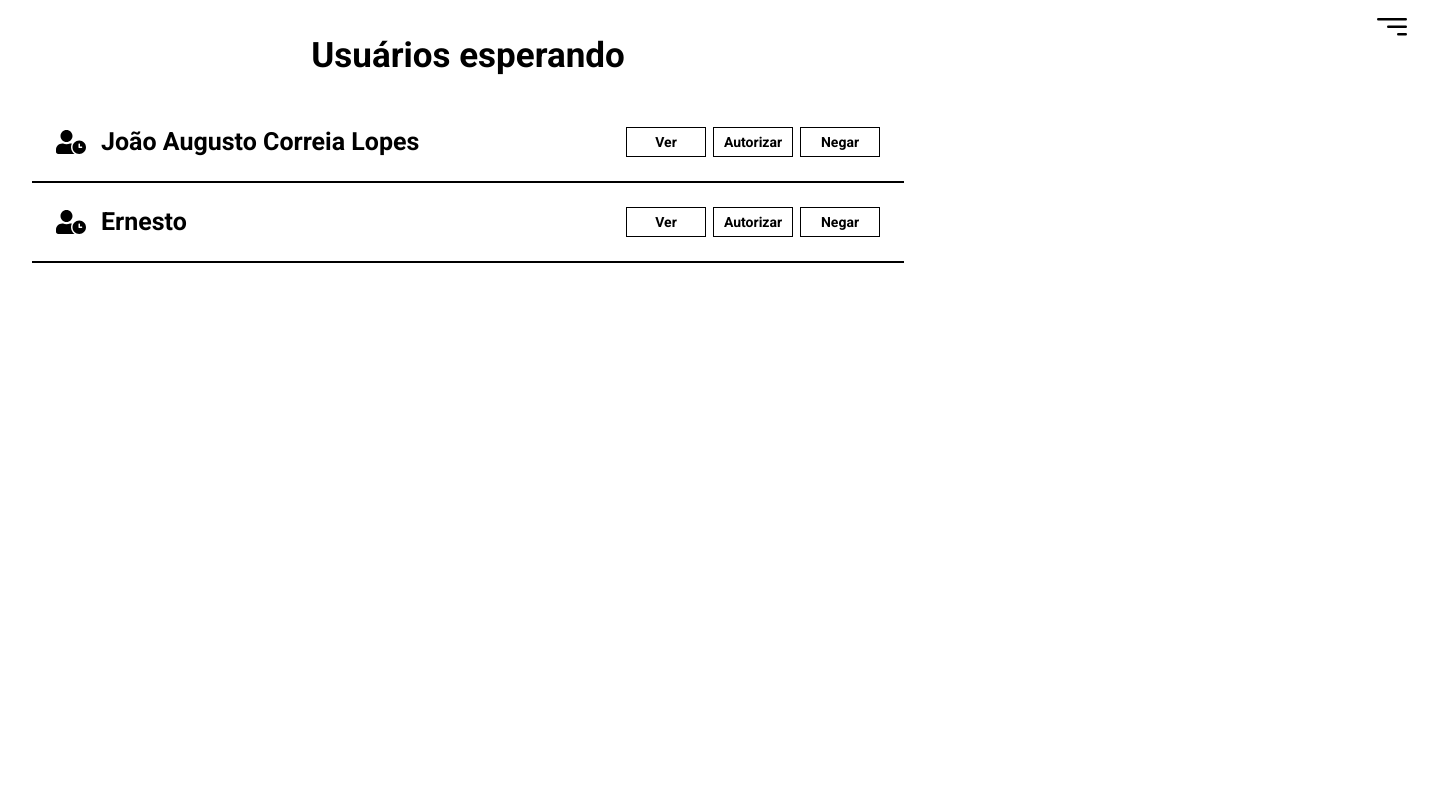
UsersWaiting › Render warning authorization
This screenshot has width=1440, height=810.
Click the button "Autorizar" in the row of "João Augusto Correia Lopes" at (753, 142), box [713,126,793,156]
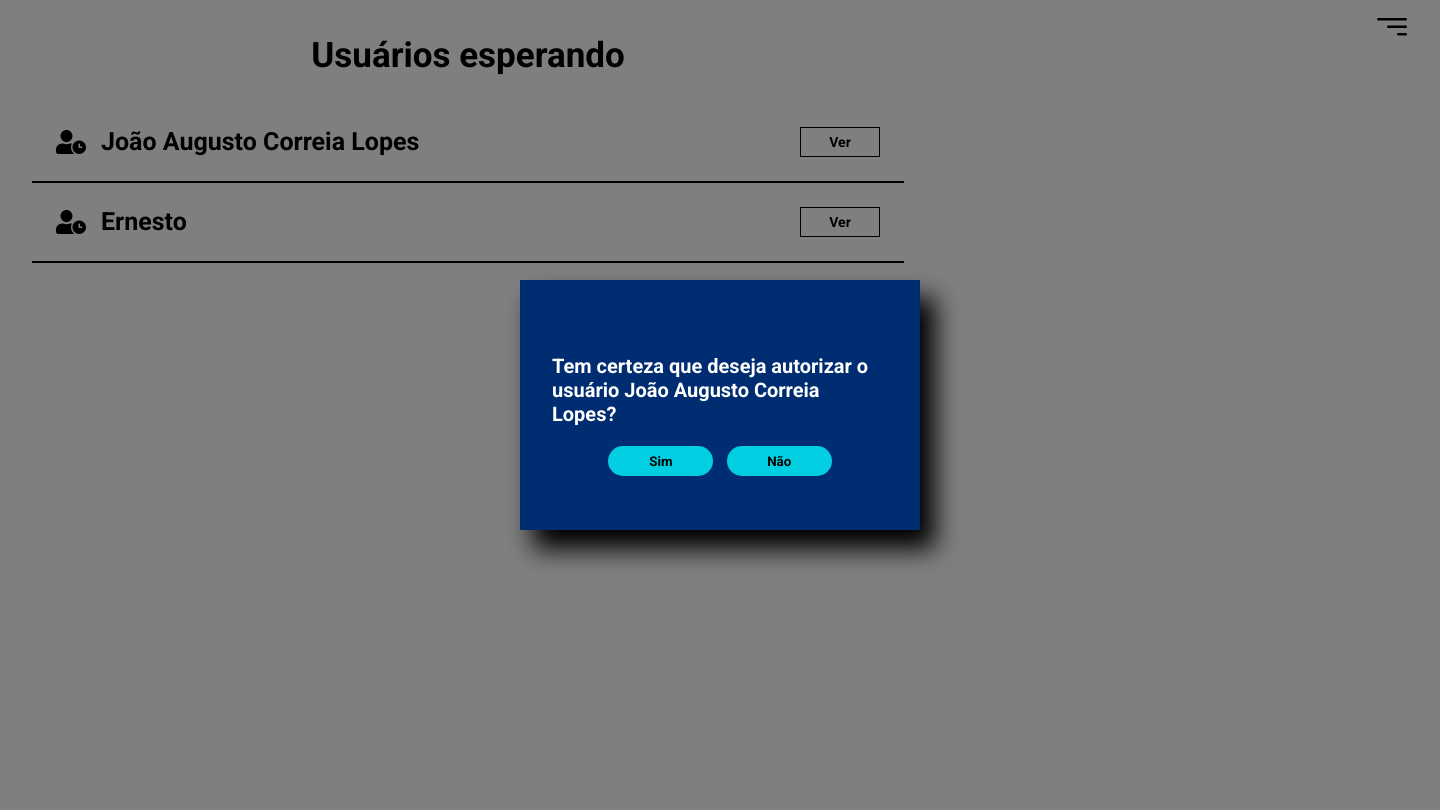
Now the text "Tem certeza que deseja autorizar o usuário João Augusto Correia Lopes?" is shown, box [552,334,888,446]
Now the button "Sim" is shown, box [608,446,713,476]
Now the button "Não" is shown, box [727,446,832,476]
